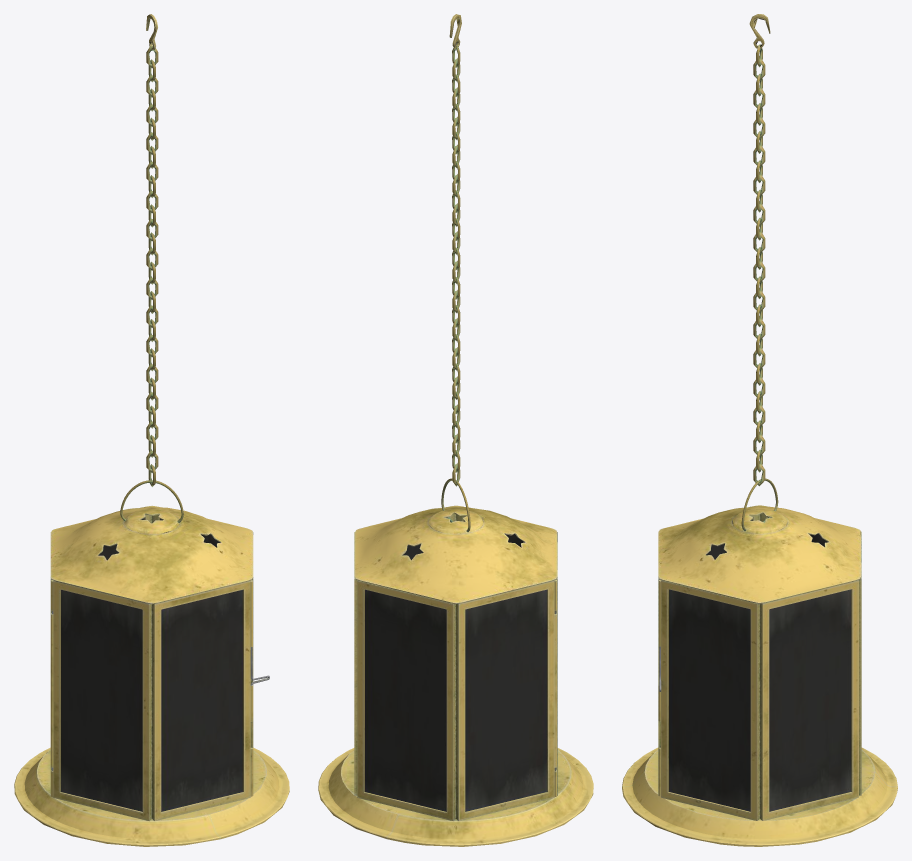
Rendered from brass_diya_lantern.glb.
3 renders of one model, left to right at view 1: azimuth 30°, elevation 25°; view 2: azimuth 150°, elevation 25°; view 3: azimuth 270°, elevation 25°, orthographic.
Visible parts, largest first — view 1: brass_diya_lantern, brass_diya_lantern_chain; view 2: brass_diya_lantern, brass_diya_lantern_chain; view 3: brass_diya_lantern, brass_diya_lantern_chain.
Part boxes in pixels (x1,y1,x2,y2): brass_diya_lantern: [14, 505, 289, 846]; brass_diya_lantern_chain: [146, 14, 158, 486]; brass_diya_lantern: [318, 505, 593, 846]; brass_diya_lantern_chain: [449, 14, 461, 486]; brass_diya_lantern: [622, 505, 897, 846]; brass_diya_lantern_chain: [749, 14, 770, 486].
Bounding box in the file's own units: 0.123 × 0.3807 × 0.123.
3 materials, 3 textured.
